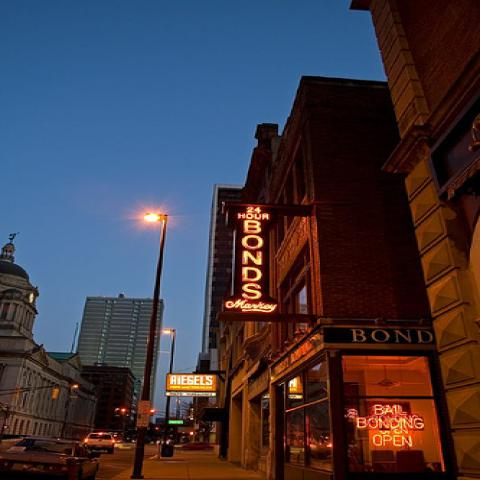car: (1, 438, 100, 480), (82, 432, 115, 455)
